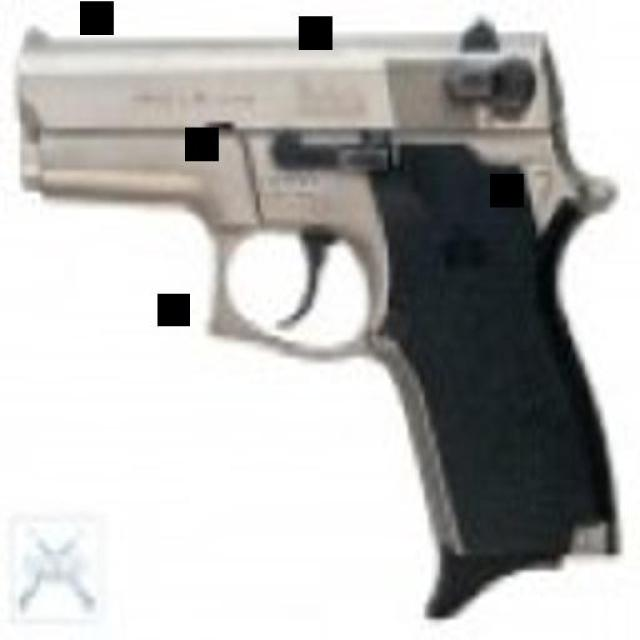gun: (14, 9, 618, 601)
